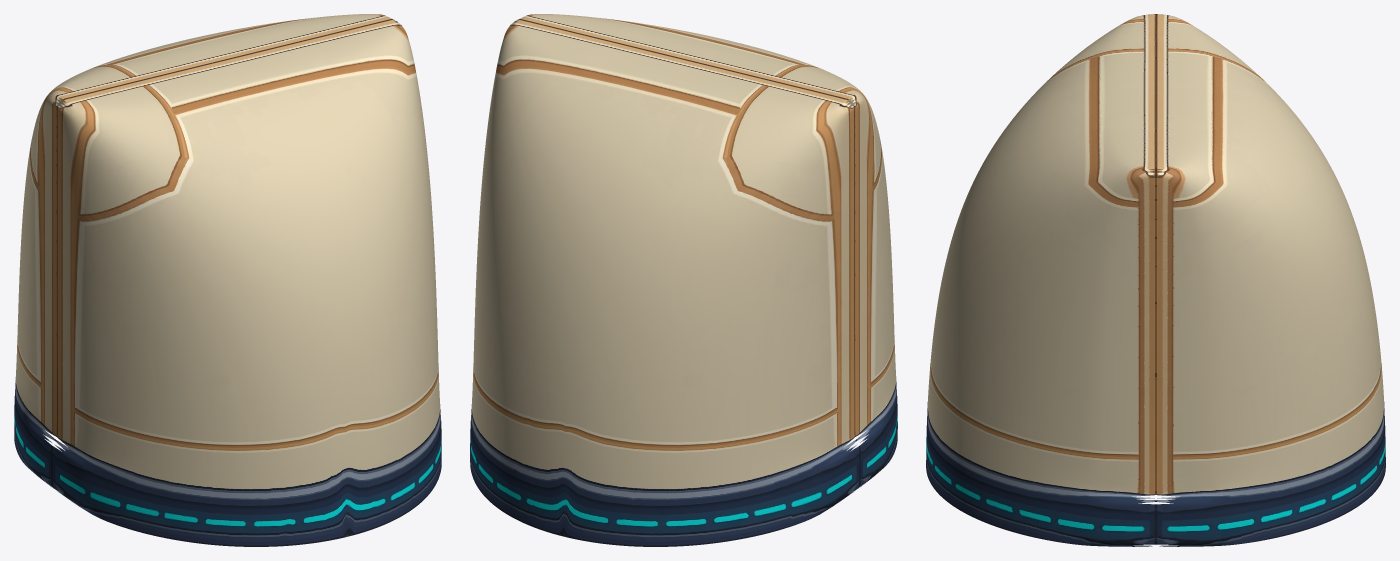
File: rear_wall.glb
The picture shows the model from 3 angles, left to right: view 1: azimuth 30°, elevation 25°; view 2: azimuth 150°, elevation 25°; view 3: azimuth 270°, elevation 25°; orthographic projection. The views are drawn at different scales.
Visible parts, largest first — view 1: rear_wall; view 2: rear_wall; view 3: rear_wall.
Boxes of the visible parts, x1,y1,x2,y2 form: rear_wall: (14,14,441,546); rear_wall: (470,14,897,546); rear_wall: (926,14,1385,546).
Size of the model in its own units: 0.9883 by 1.05 by 1.16.
1 material, 1 textured.
